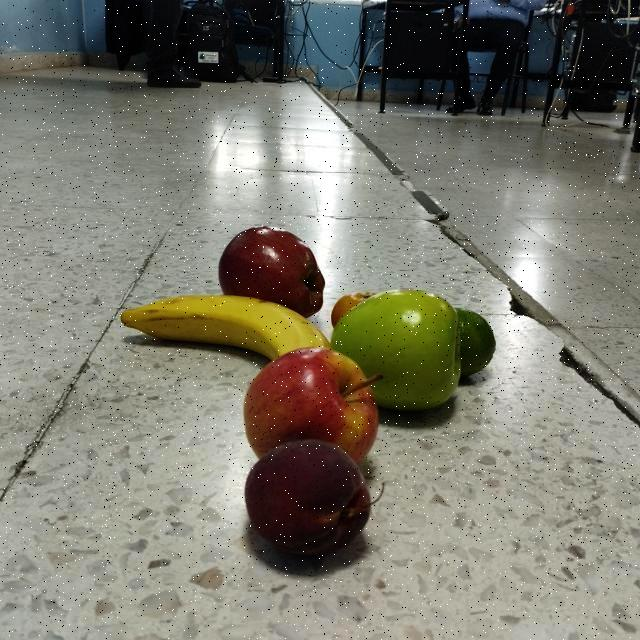Apel Gala: (216, 335, 426, 470)
Apel Merah: (205, 204, 334, 325)
Jeruk Mandarin: (328, 273, 410, 346)
Lemon: (412, 294, 499, 399)
Persik: (221, 432, 397, 575)
Pisang: (113, 281, 334, 398)
